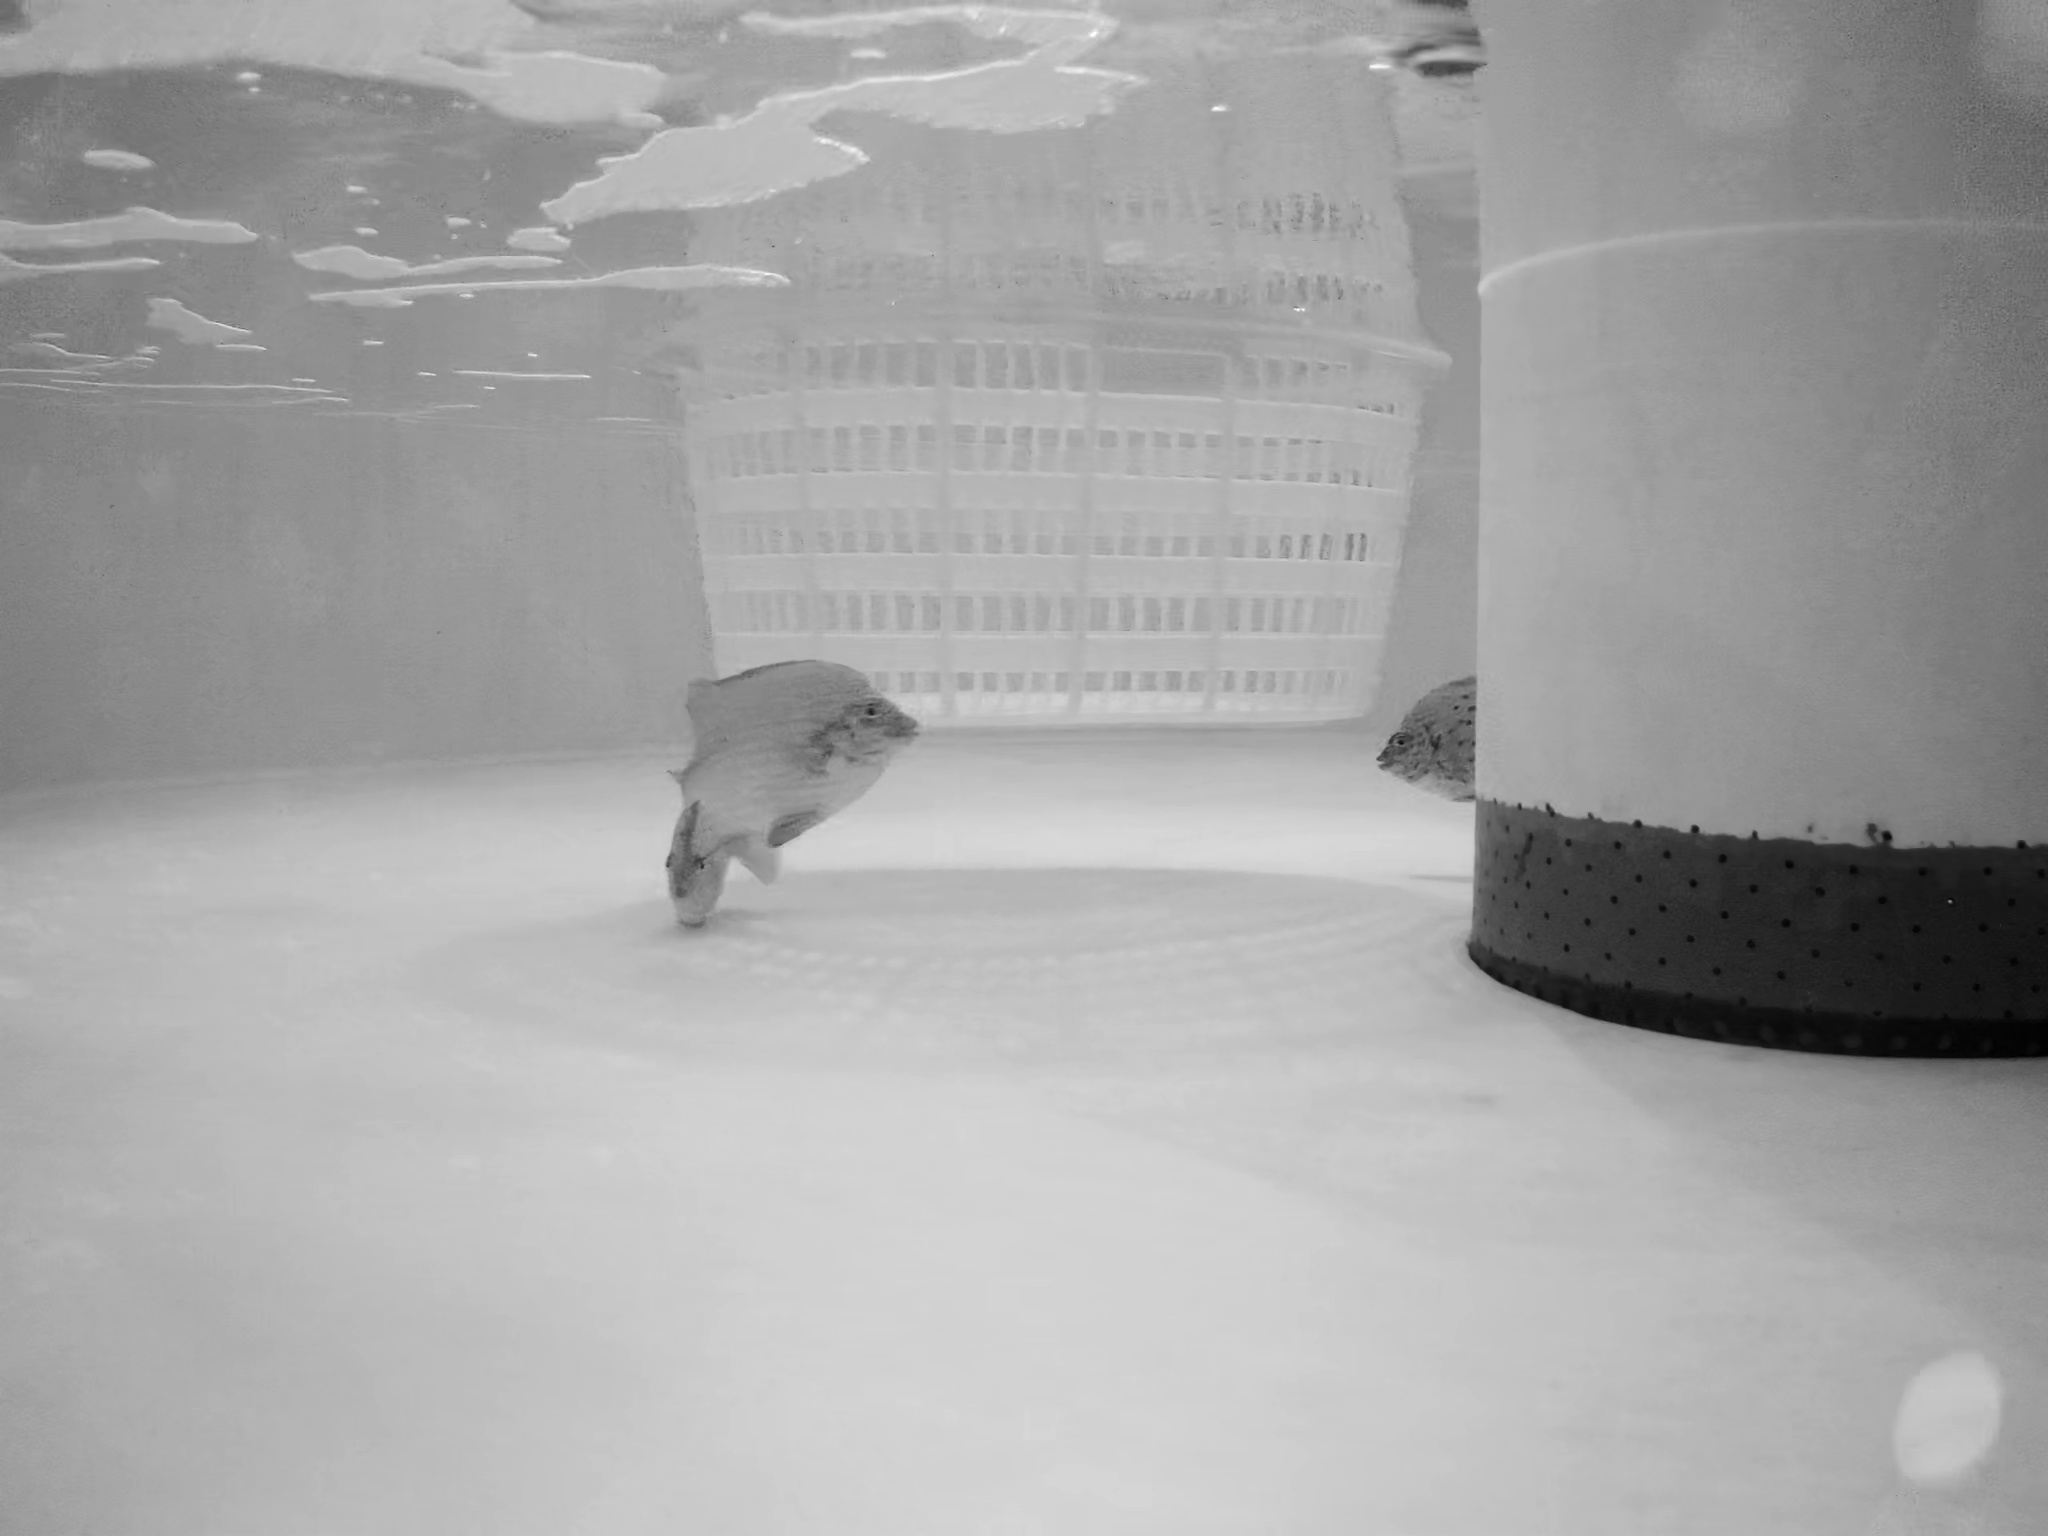fish: (655, 655, 918, 845), (661, 791, 785, 928), (1379, 668, 1479, 795)
